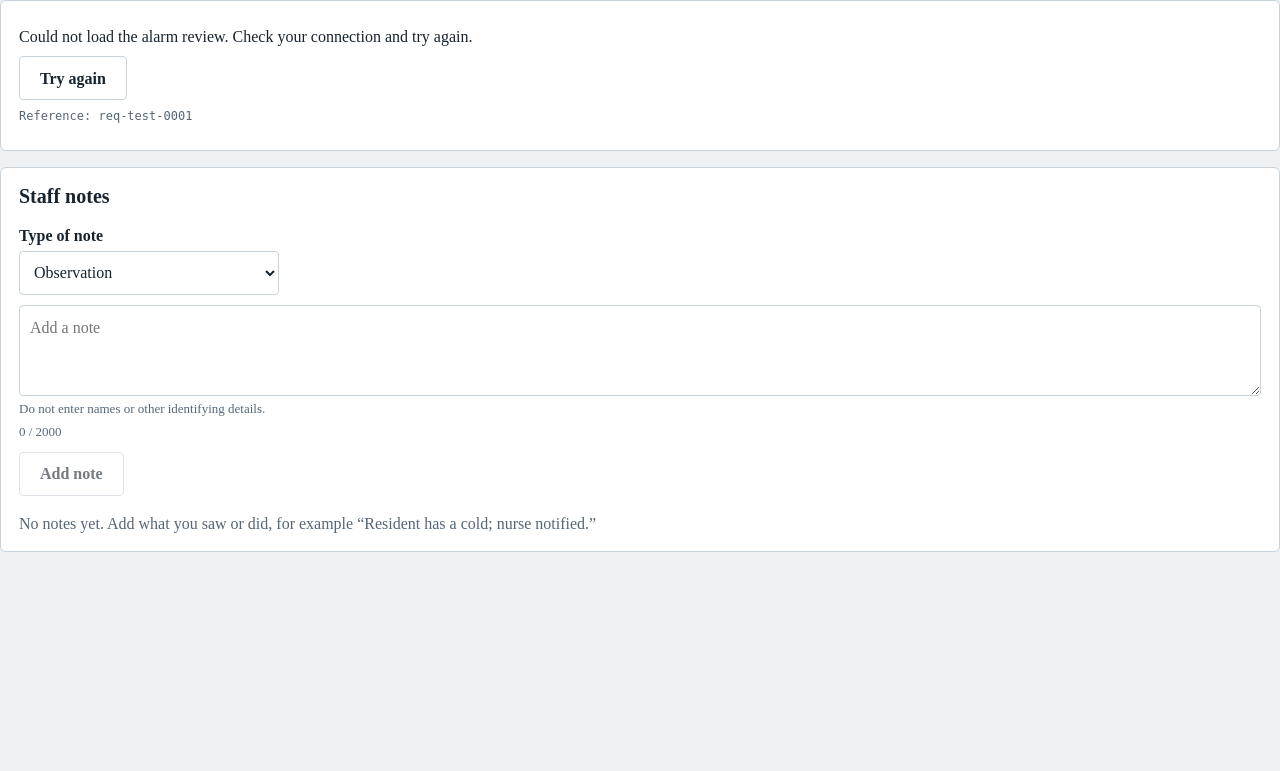
Review and notes section › shows an error in the review panel only when the alerts fail (UX-202)
This screenshot has width=1280, height=771.
Expected: the text "Could not load the alarm review. Check your connection and try again." is shown, [19, 25, 472, 48]
Expected: the heading "Staff notes" is shown, [19, 185, 110, 207]
Click the button "Try again" at (73, 78), box [19, 56, 127, 100]
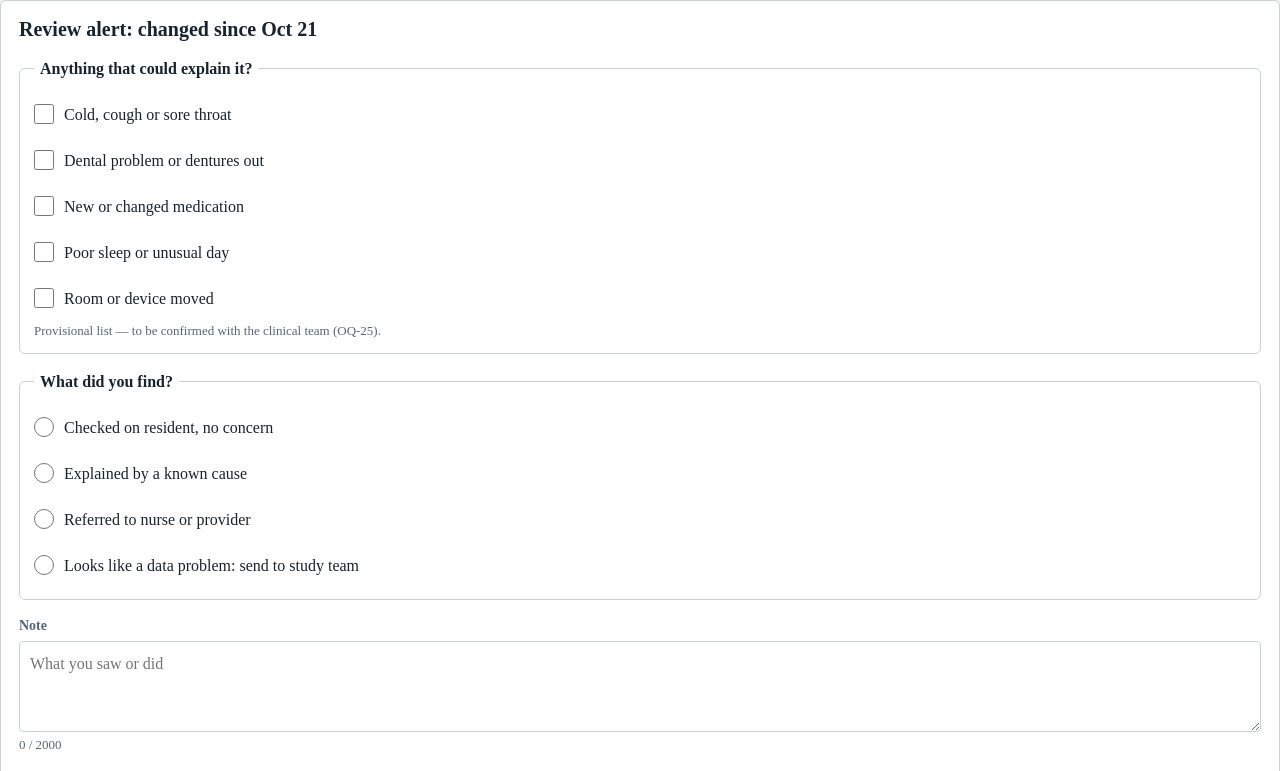
Expected: the heading "Review alert: changed since Oct 21" is shown, [19, 18, 317, 40]
